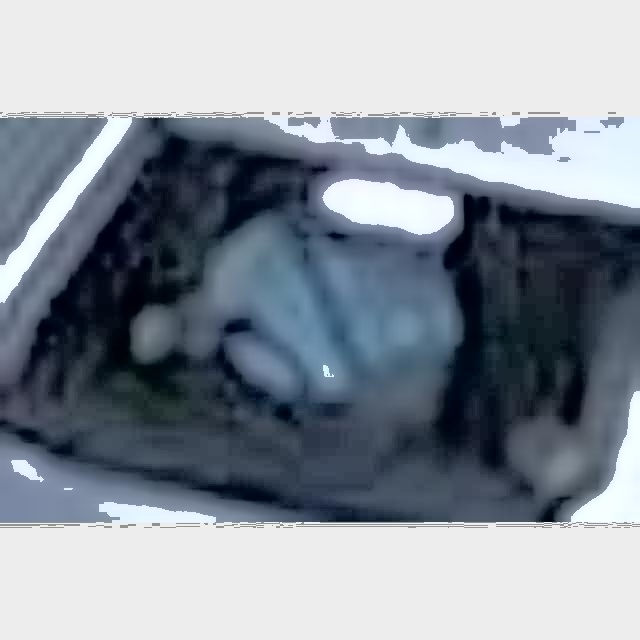pakai: (169, 165, 480, 447)
